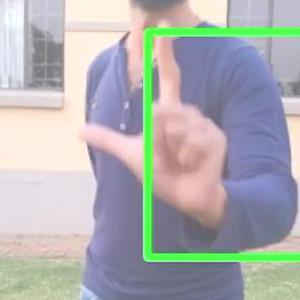land_hand: (72, 14, 233, 223)
